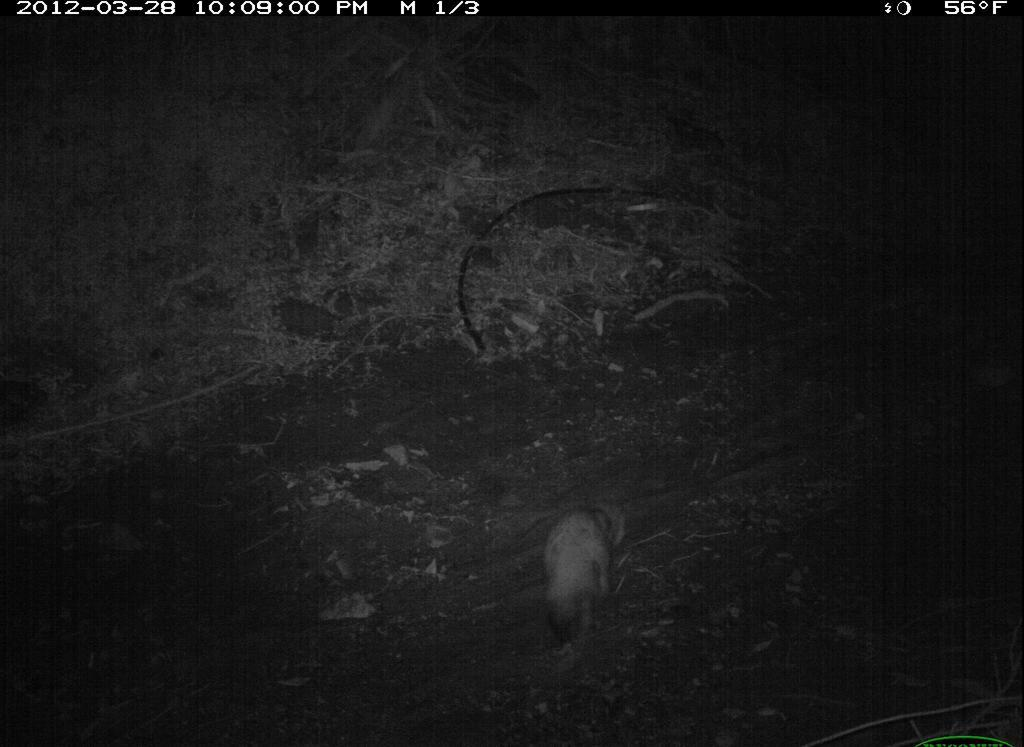opossum: (529, 492, 633, 665)
